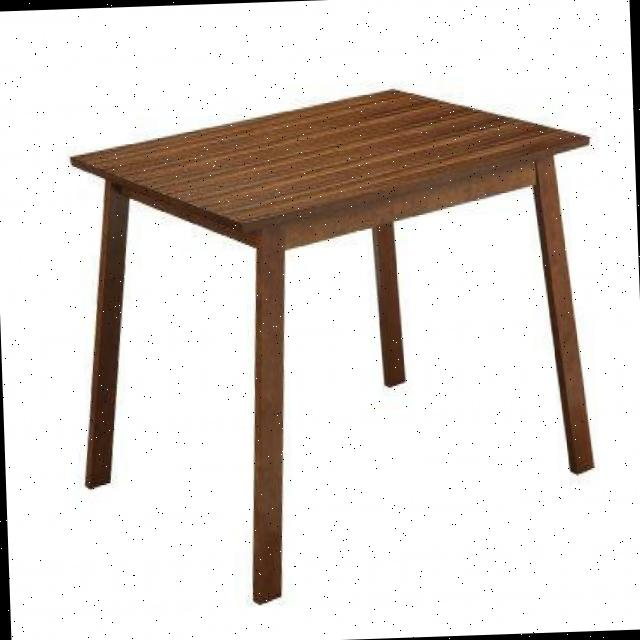Table: (35, 67, 632, 638)
